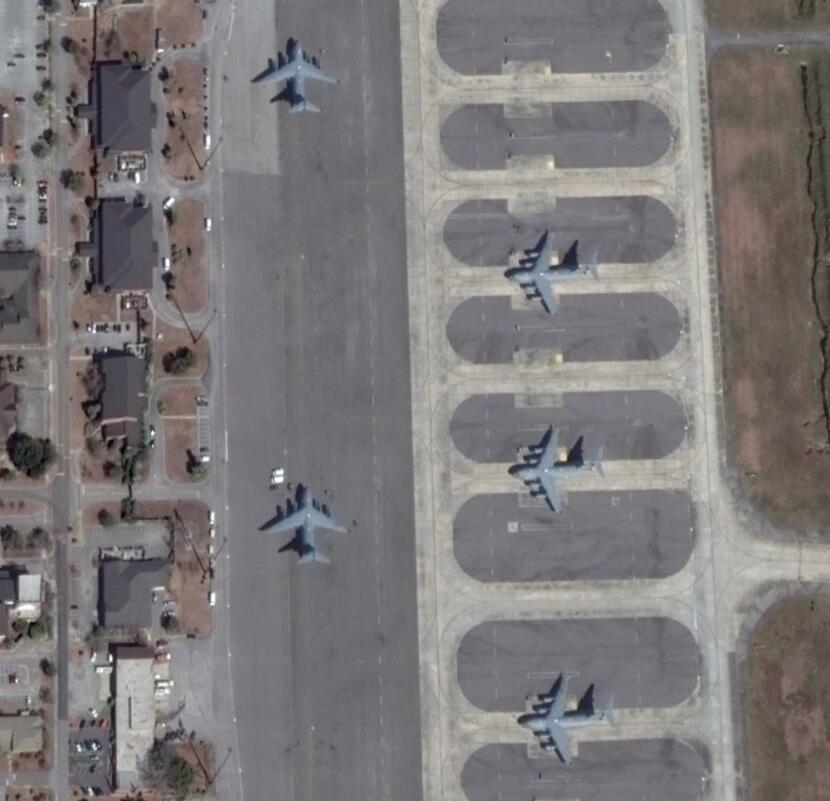A3: (515, 673, 618, 767), (511, 427, 605, 516), (507, 231, 599, 317), (261, 487, 353, 567), (253, 38, 341, 114)
